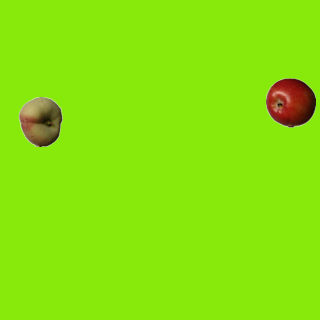Apple Braeburn: (265, 77, 315, 127)
Peach Flat: (15, 96, 65, 146)
